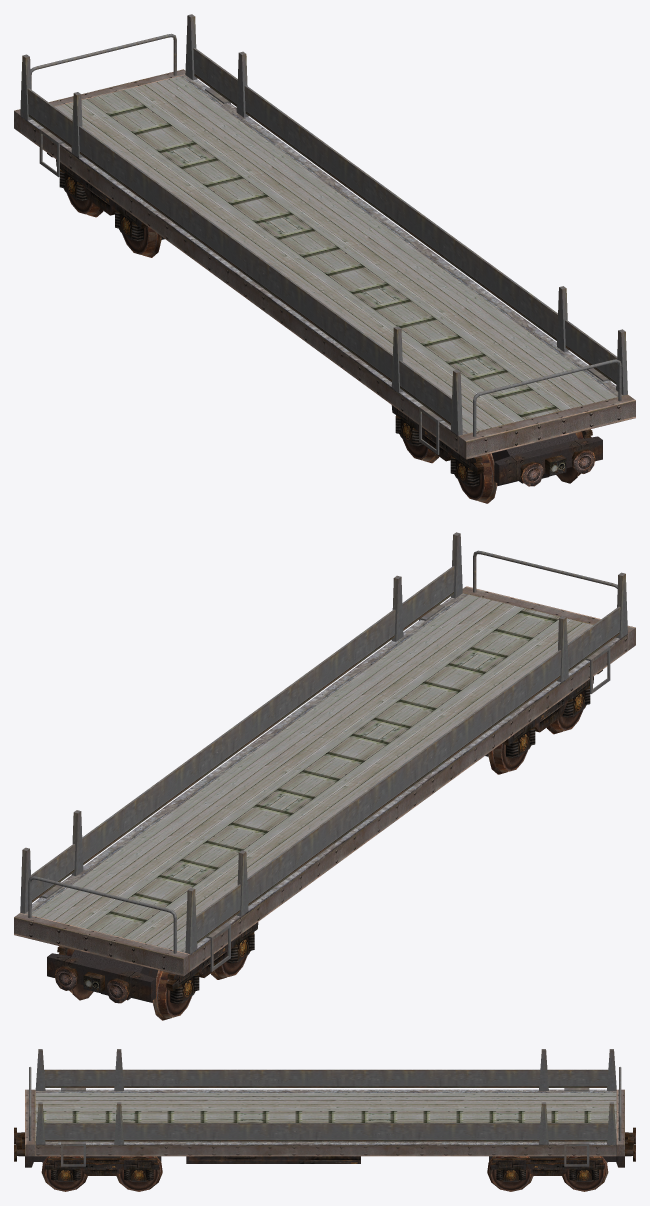
Rendered from Model_Trains_Carriage_Transport_Case.fbx.
3 views of the same model, one above another, from view 1: azimuth 30°, elevation 25°; view 2: azimuth 150°, elevation 25°; view 3: azimuth 270°, elevation 25° (orthographic). The views are drawn at different scales.
Visible parts, largest first — view 1: Train_Carriage_Transport_Case_LOD0; view 2: Train_Carriage_Transport_Case_LOD0; view 3: Train_Carriage_Transport_Case_LOD0.
Part boxes in pixels (x1=…): Train_Carriage_Transport_Case_LOD0: x1=14, y1=14, x2=635, y2=503; Train_Carriage_Transport_Case_LOD0: x1=14, y1=532, x2=635, y2=1020; Train_Carriage_Transport_Case_LOD0: x1=14, y1=1049, x2=635, y2=1191.
Size of what is drawn, in the model's own units: 274 by 233 by 1288.
